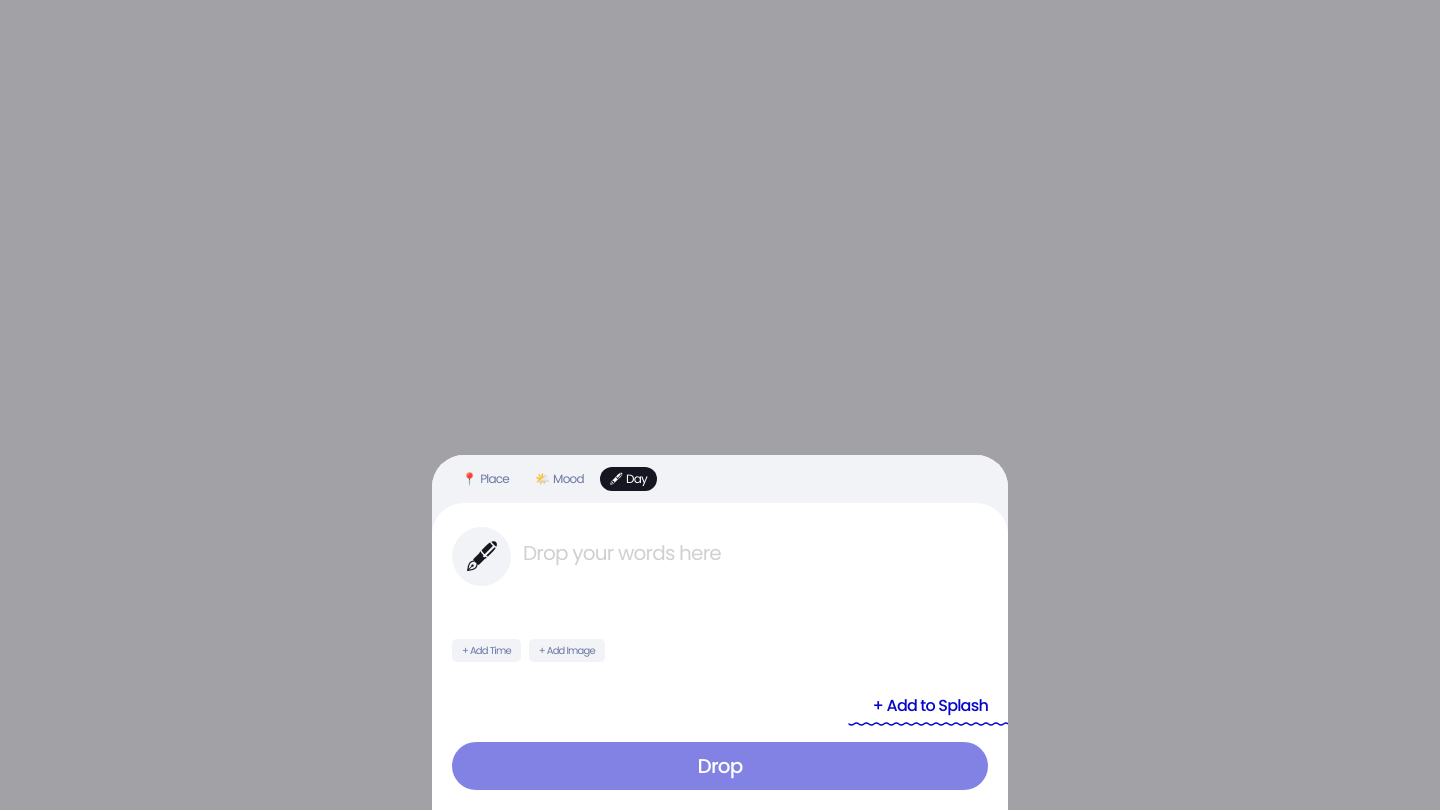
Test: a board in the sheet (H20d, H20e) › attaches from the picker and detaches from the chip
Click the button "+ Add to Splash". click: (918, 710)
box: [848, 694, 988, 726]
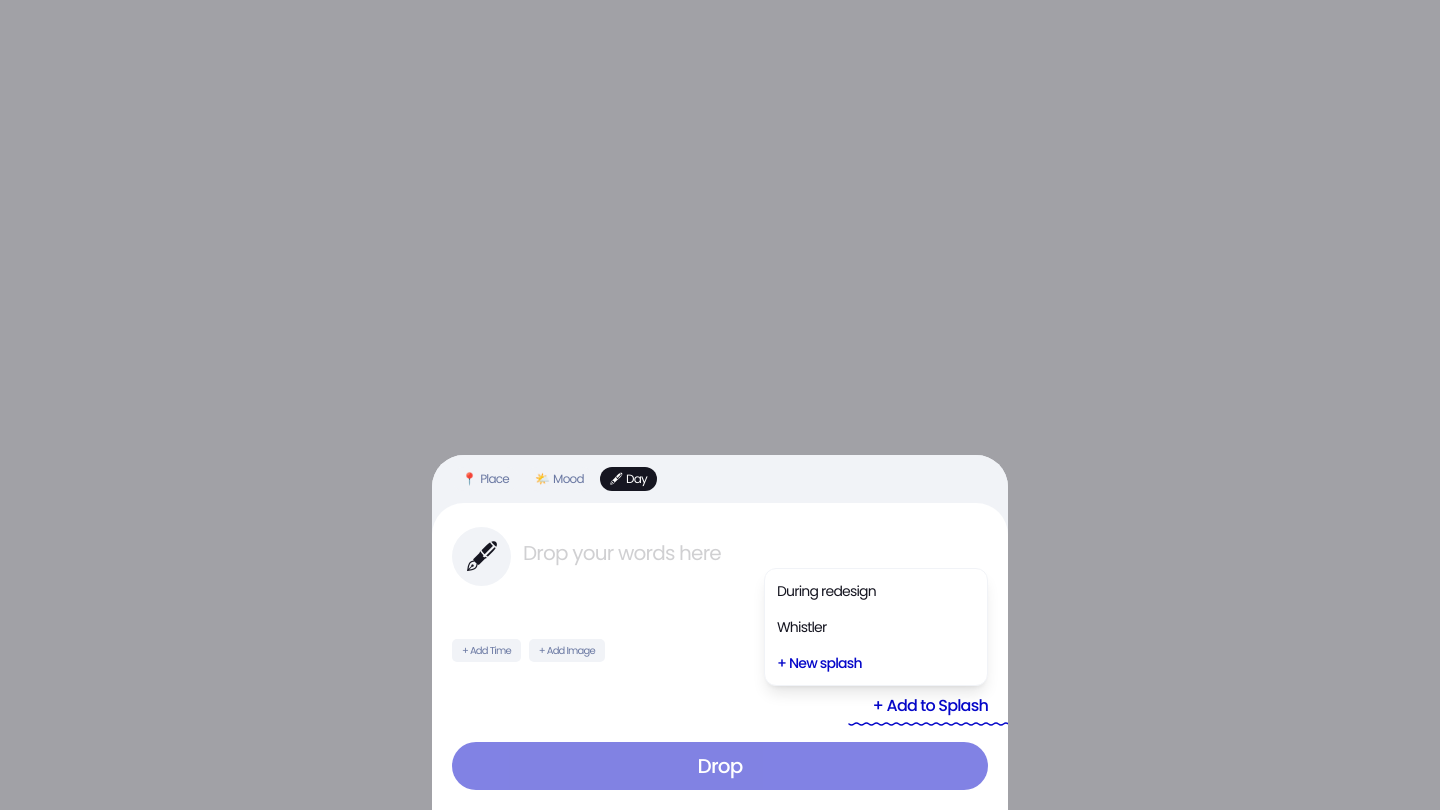
Click the option "During redesign". click: (876, 591)
box: [765, 573, 987, 609]
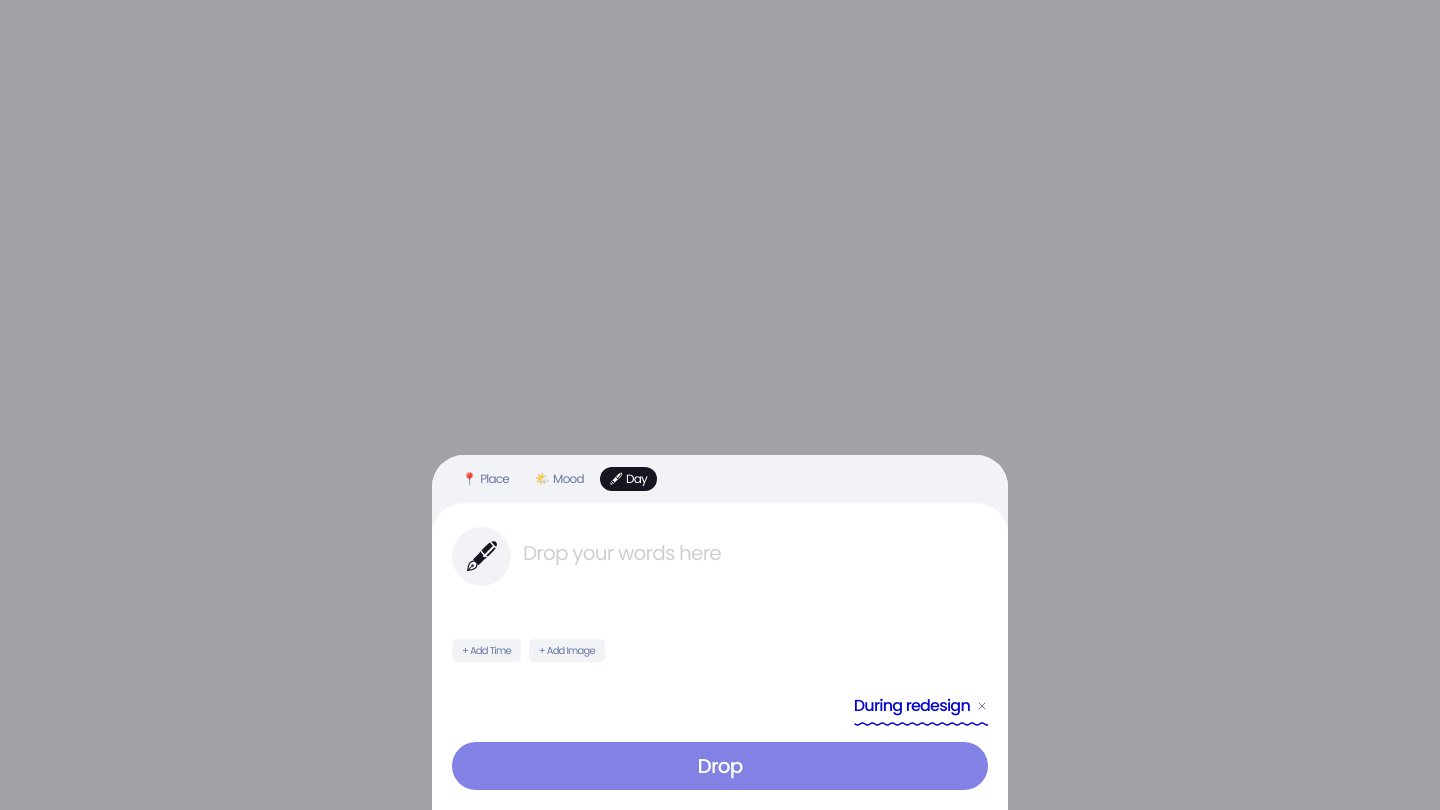
Now the element showing "During redesign" is shown, box [854, 694, 988, 726]
Type "x" into the text box named "Note". click: (756, 575)
box: [523, 527, 988, 623]
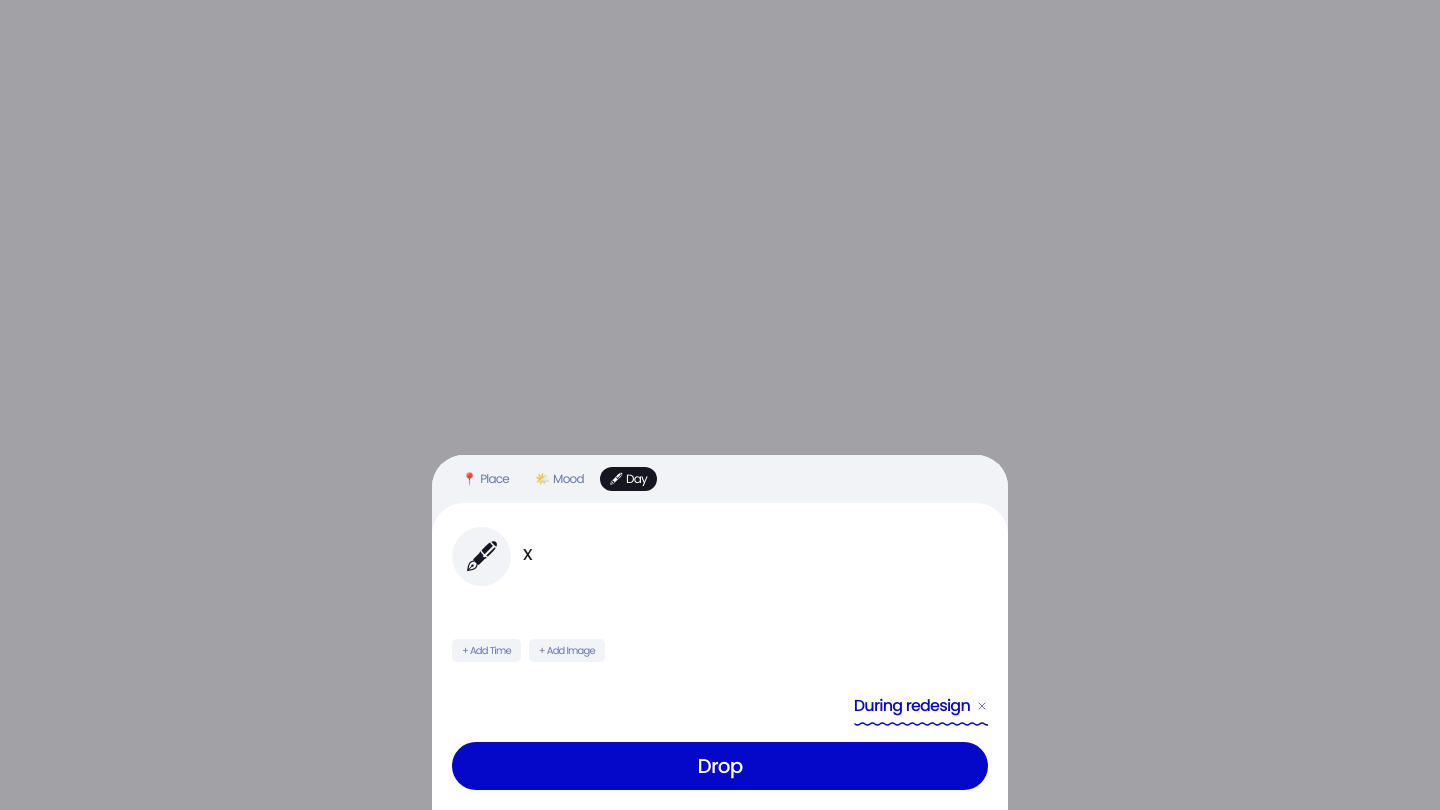
Click the button "Drop". click: (720, 766)
box: [452, 742, 988, 790]
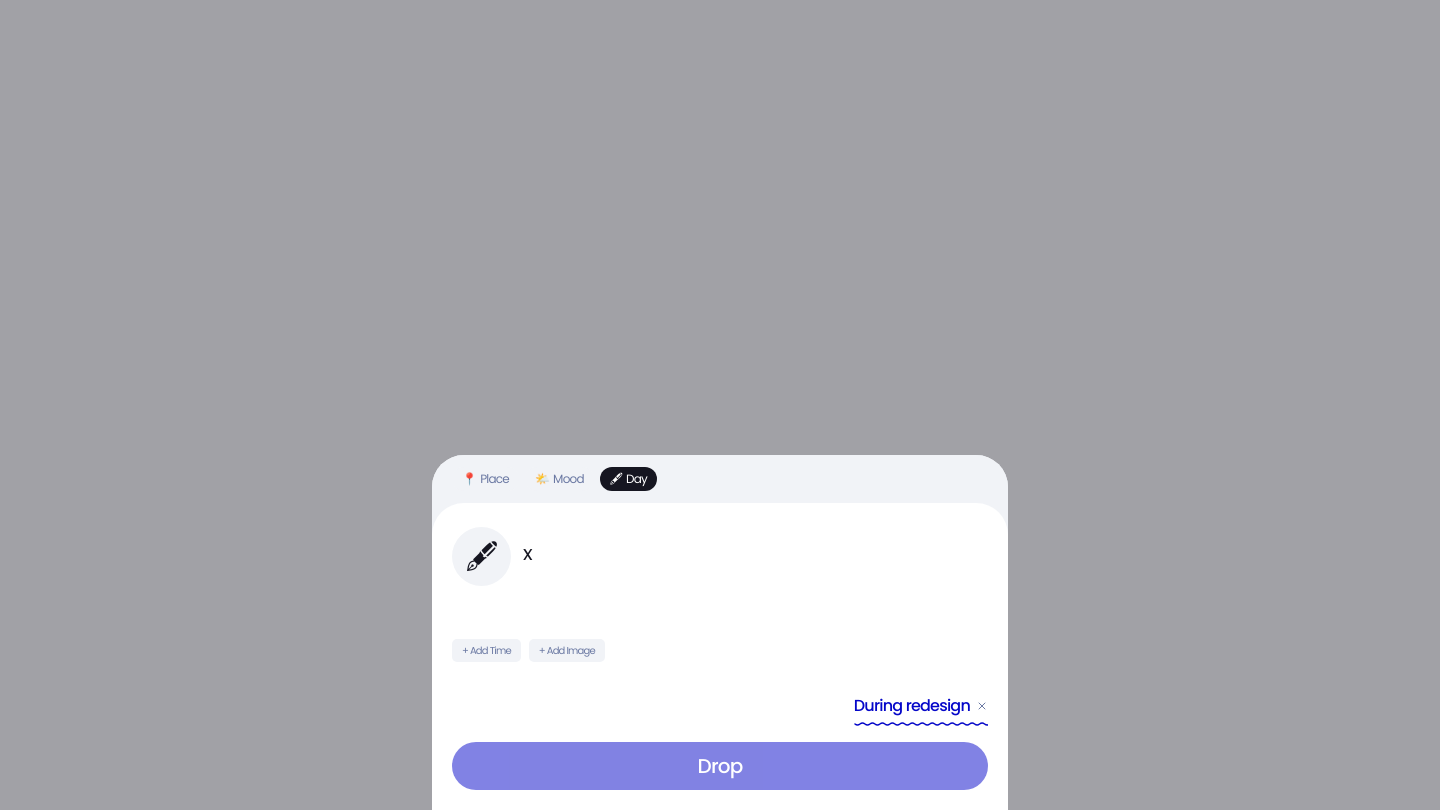
Click the button named "Remove from splash". click: (982, 706)
box: [976, 700, 988, 712]
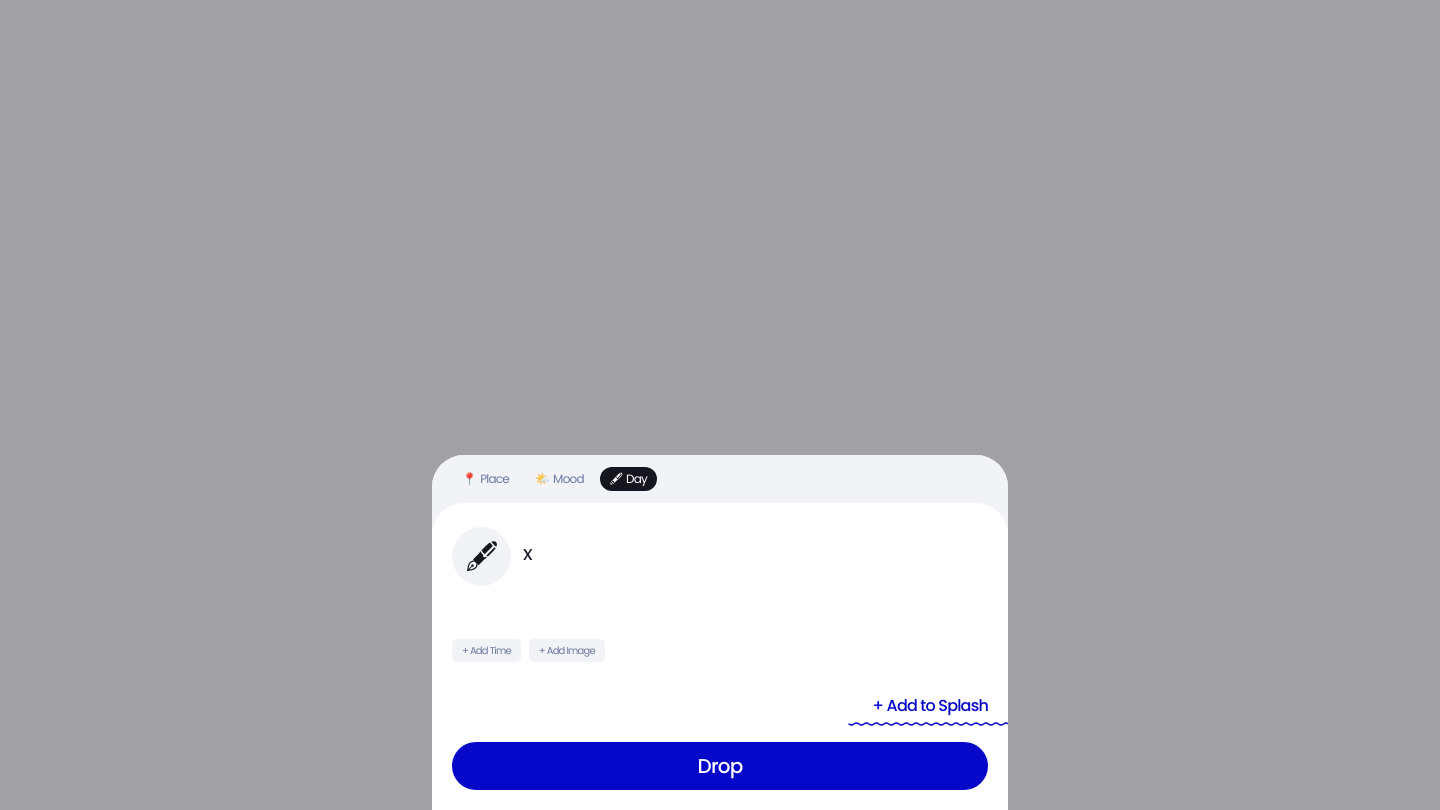
Now the button "+ Add to Splash" is shown, box [848, 694, 988, 726]
